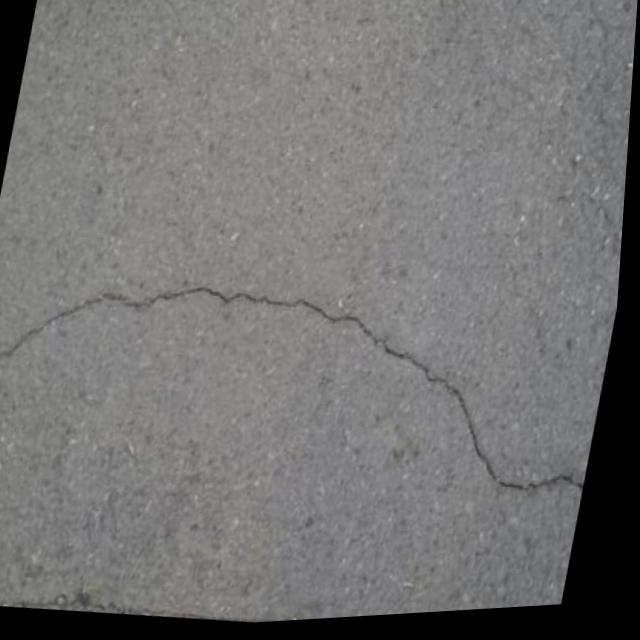Crack: (0, 203, 628, 573)
